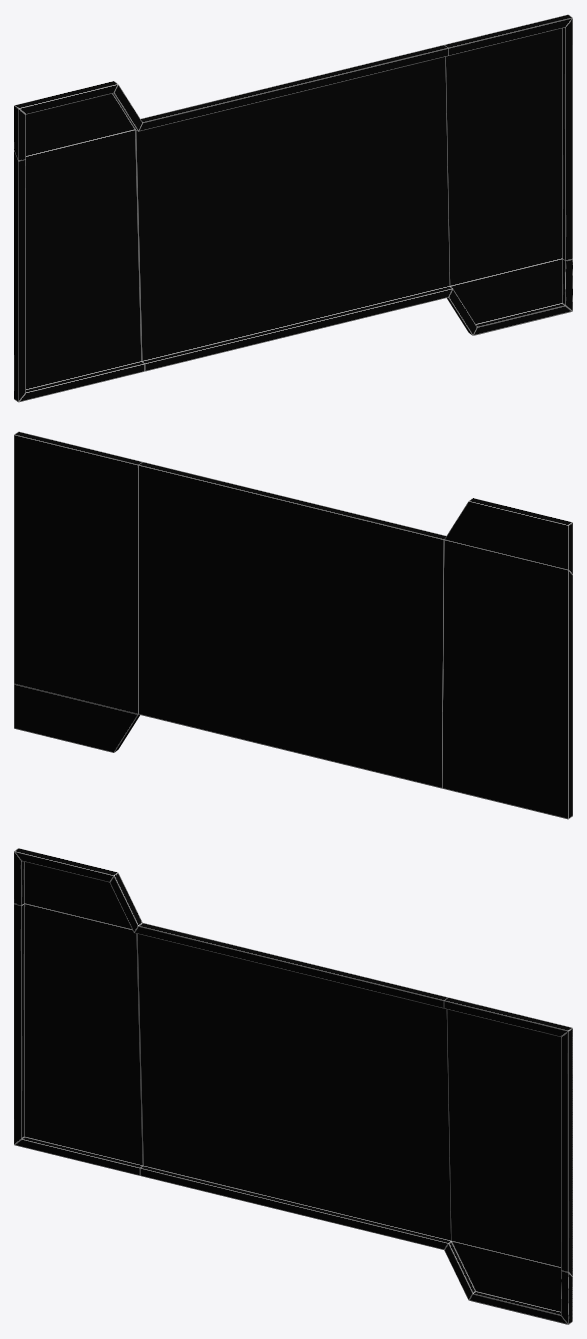
3 views of the same model, one above another, from view 1: azimuth 30°, elevation 25°; view 2: azimuth 150°, elevation 25°; view 3: azimuth 330°, elevation 25° (orthographic).
Parts seen in each view (by area): view 1: DD_20; view 2: DD_20; view 3: DD_20.
Boxes of the visible parts, <box> form: DD_20: <box>14,14,572,402</box>; DD_20: <box>14,431,572,819</box>; DD_20: <box>14,848,572,1324</box>.
Bounding box in the file's own units: 3000 × 1749 × 41.9.
1 material, 1 textured.
